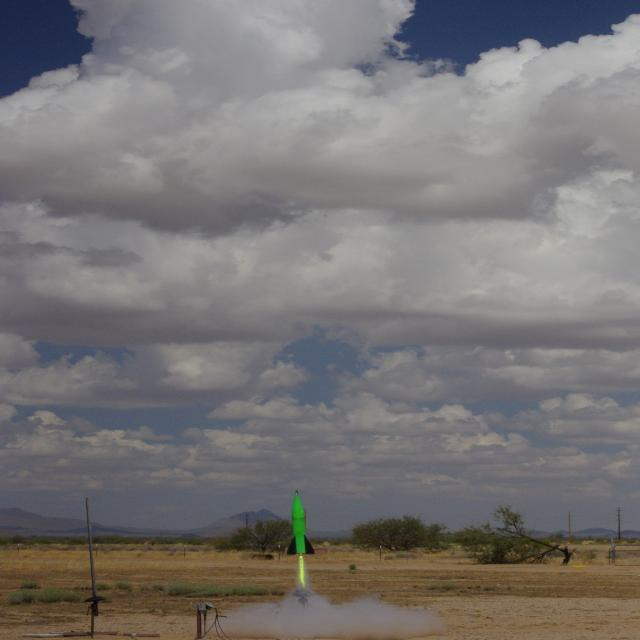Rocket: (287, 493, 315, 555)
